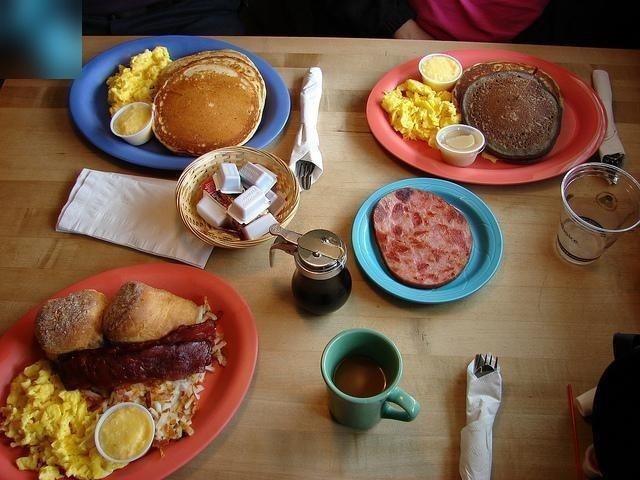cup-disposable: (553, 161, 639, 267)
cup-handle: (319, 327, 420, 431)
